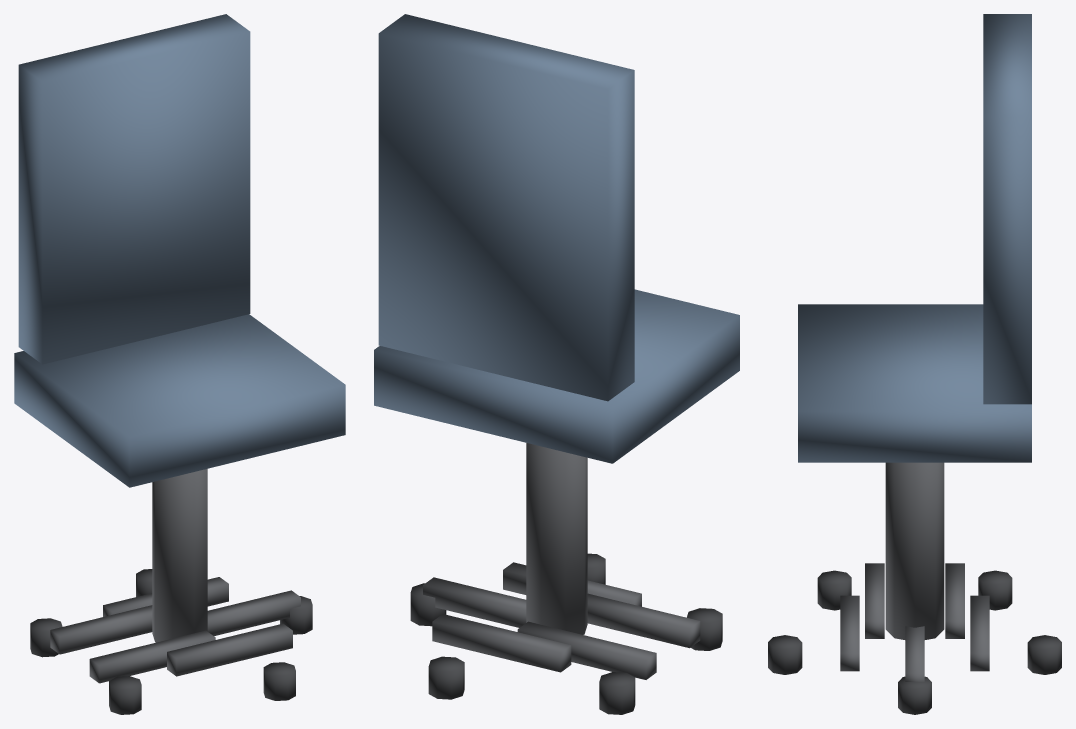
The model's file is office_task_chair__tall.glb.
3 views of the same model, side by side, from view 1: azimuth 30°, elevation 25°; view 2: azimuth 150°, elevation 25°; view 3: azimuth 270°, elevation 25° (orthographic). The views are drawn at different scales.
Visible parts, largest first — view 1: world; view 2: world; view 3: world.
Part boxes in pixels (x1=…): world: x1=14, y1=14, x2=345, y2=714; world: x1=374, y1=14, x2=739, y2=714; world: x1=768, y1=14, x2=1061, y2=714.
Size of the model in its own units: 0.5765 by 1.32 by 0.6026.
